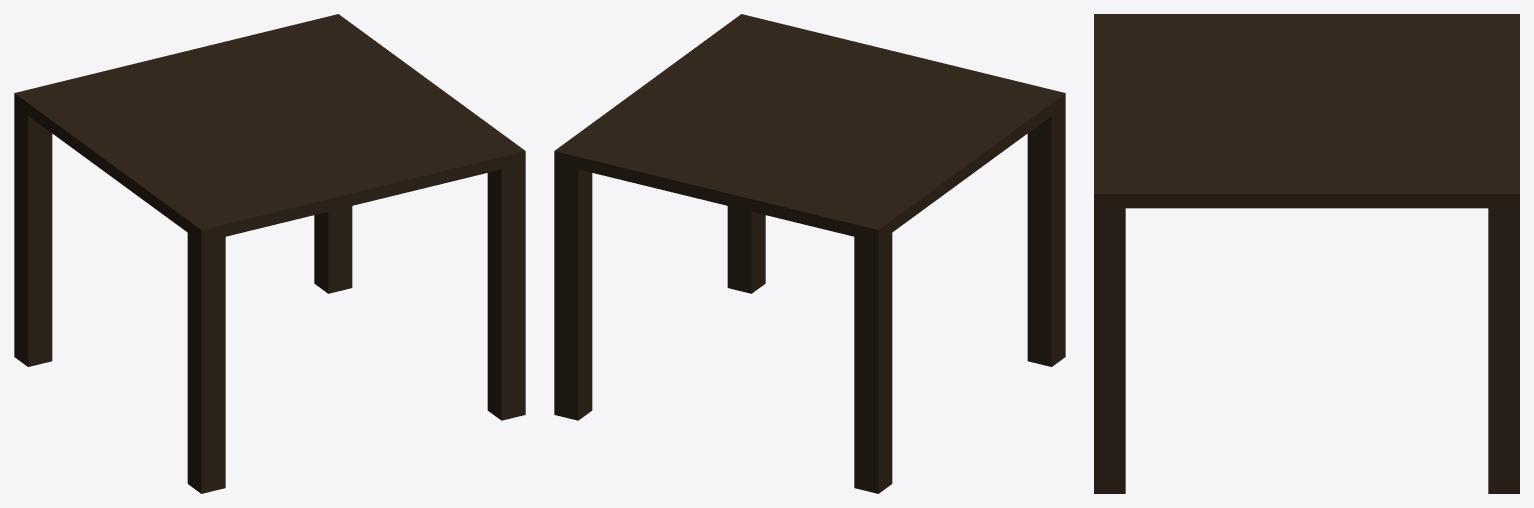
Rendered from table1.glb.
The picture shows the model from 3 angles, left to right: view 1: azimuth 30°, elevation 25°; view 2: azimuth 150°, elevation 25°; view 3: azimuth 270°, elevation 25°; orthographic projection. The views are drawn at different scales.
Parts seen in each view (by area): view 1: table; view 2: table; view 3: table.
Boxes of the visible parts, bbox=[...] form: table: bbox=[14, 14, 525, 493]; table: bbox=[554, 14, 1065, 493]; table: bbox=[1094, 14, 1519, 493].
Size of the model in its own units: 5.4 by 4.2 by 5.4.
